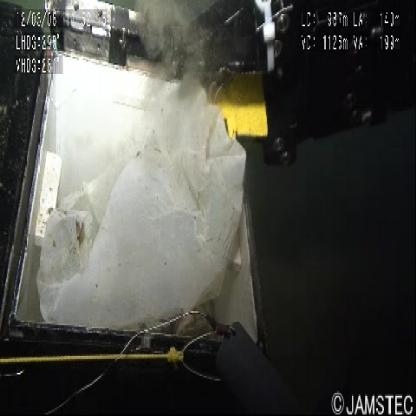Rov: (35, 1, 413, 182)
Rác: (27, 68, 265, 354)
